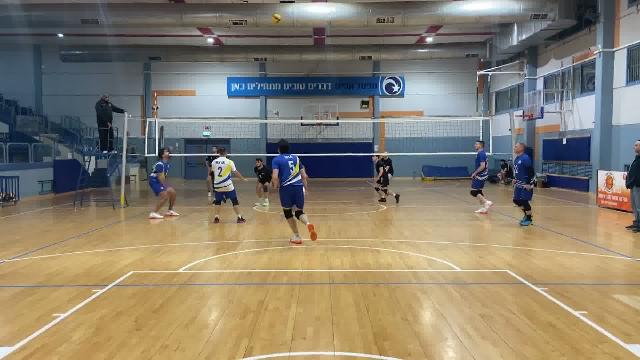ball: (270, 15, 283, 24)
